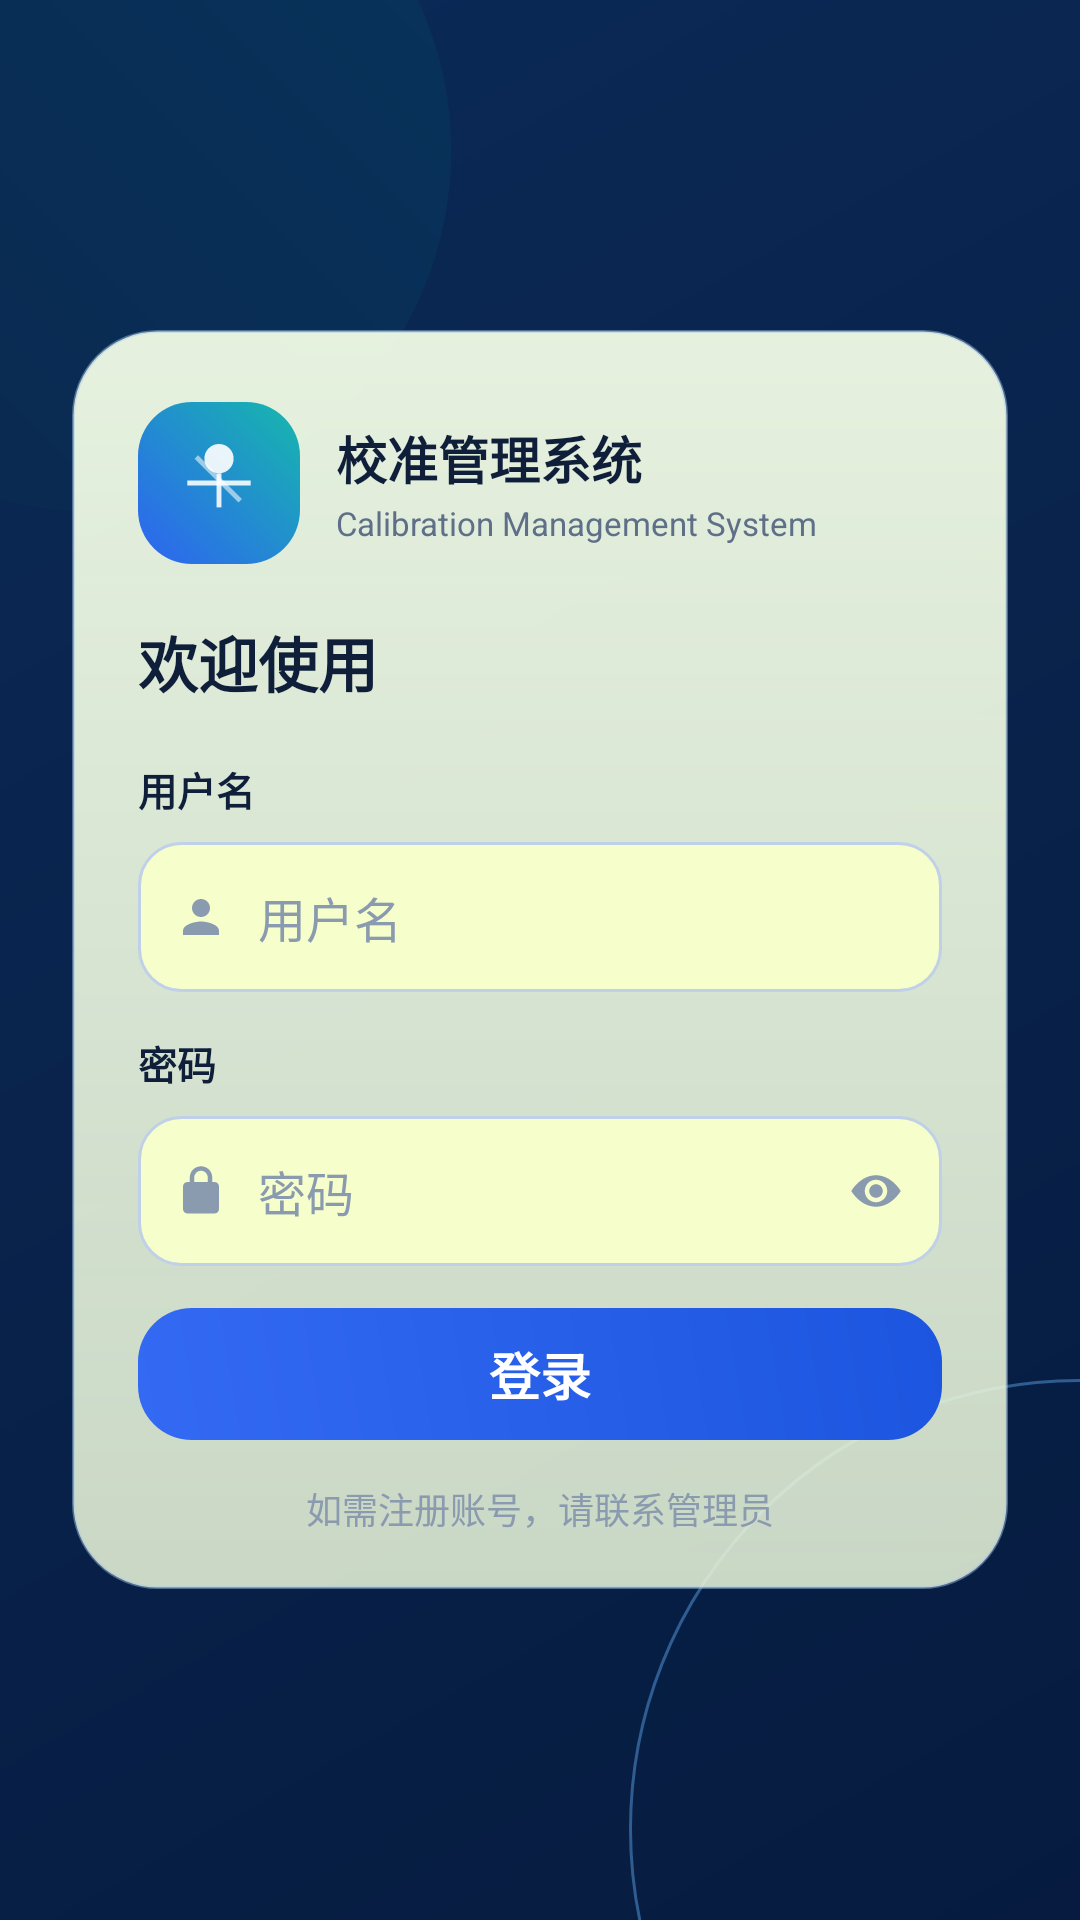

Where icons sit on this 1080px×1920px app screen, as region(x1, y1, x2, y2):
login brand mark: region(180, 444, 258, 522)
login eye: region(851, 1175, 901, 1207)
login lock: region(183, 1166, 219, 1214)
login user: region(183, 899, 219, 935)
